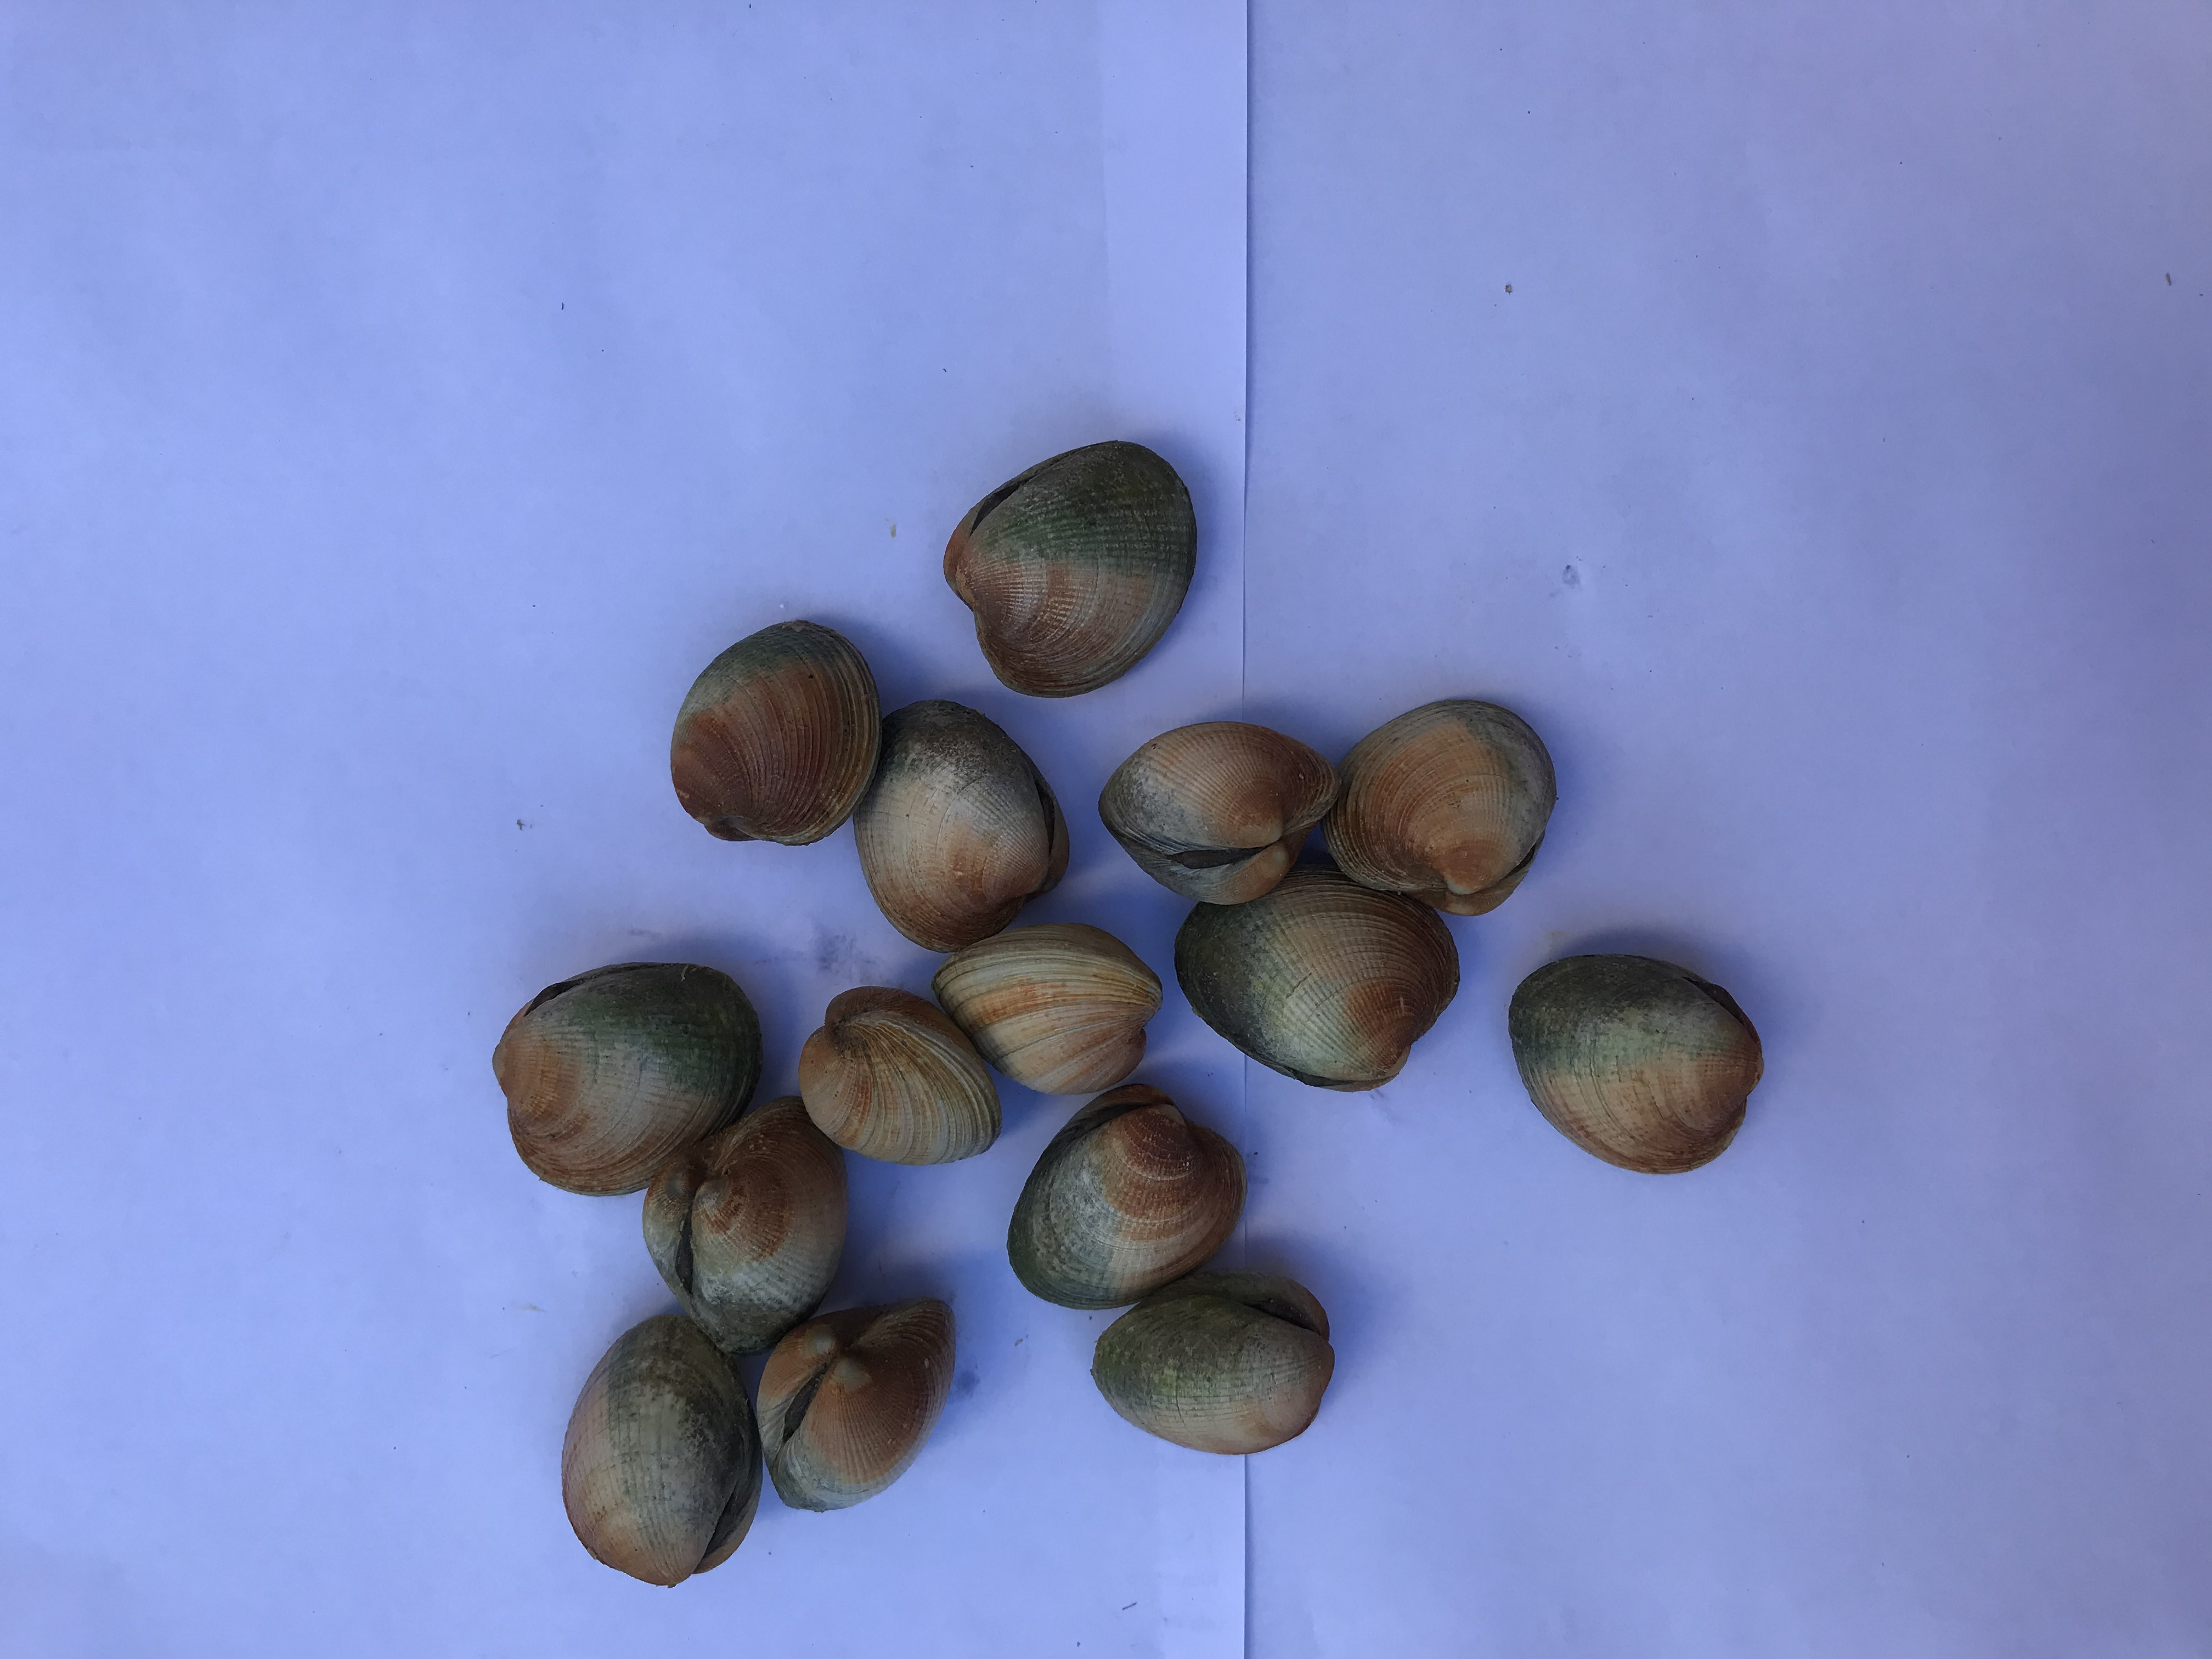cockle: (939, 437, 1202, 706), (484, 960, 766, 1202), (1170, 877, 1474, 1087), (1505, 946, 1766, 1185), (855, 685, 1076, 960), (637, 1091, 860, 1359), (559, 1309, 766, 1589), (1003, 1082, 1247, 1305), (1325, 694, 1562, 920), (1087, 1258, 1341, 1459), (667, 617, 883, 850), (758, 1295, 970, 1521), (1101, 716, 1343, 915), (928, 924, 1174, 1096), (799, 981, 1007, 1169)
